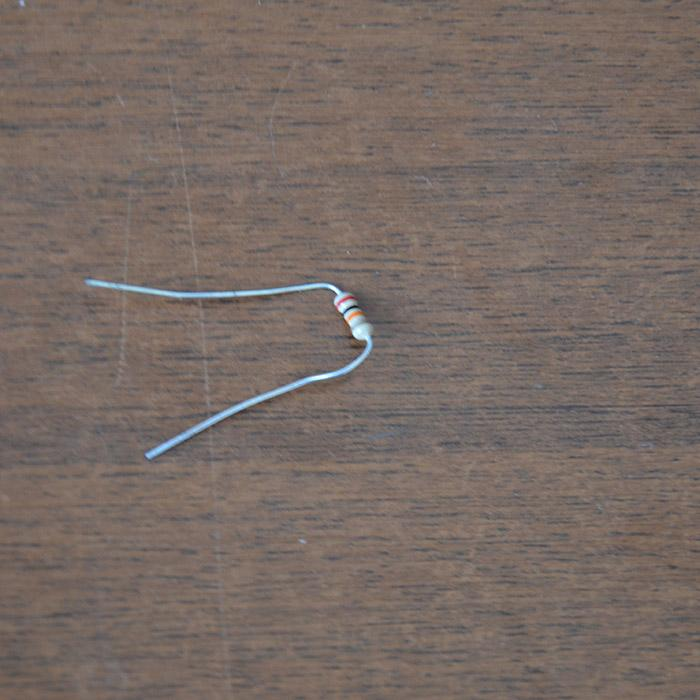resistor: (332, 290, 373, 342)
